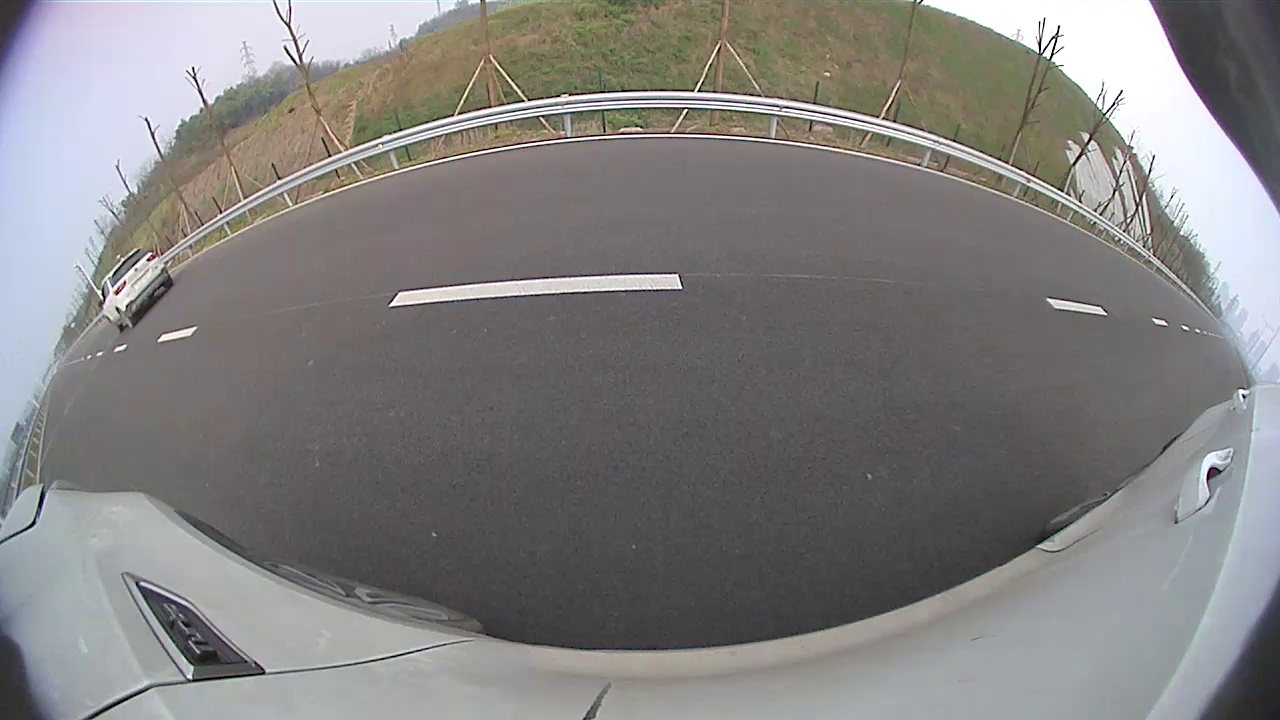car: (100, 247, 173, 331)
rear: (116, 307, 134, 329)
